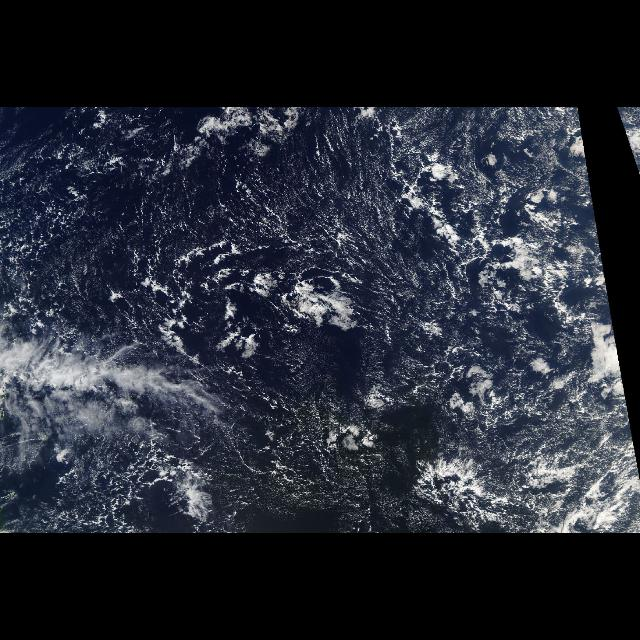Gravel: (0, 120, 636, 448)
Sugar: (247, 109, 601, 279)
